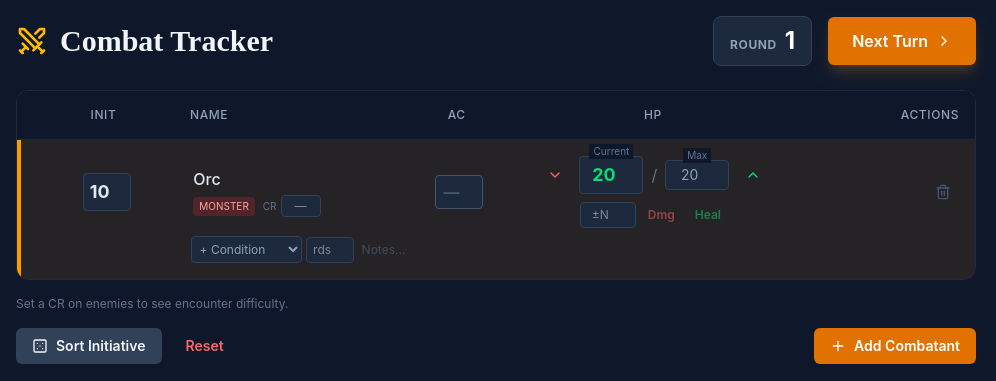
Test: conditions › adds a condition chip from the picker and removes it
Select "Poisoned" in the dropdown named "Add condition to Orc" at (246, 250), box [191,236,302,263]
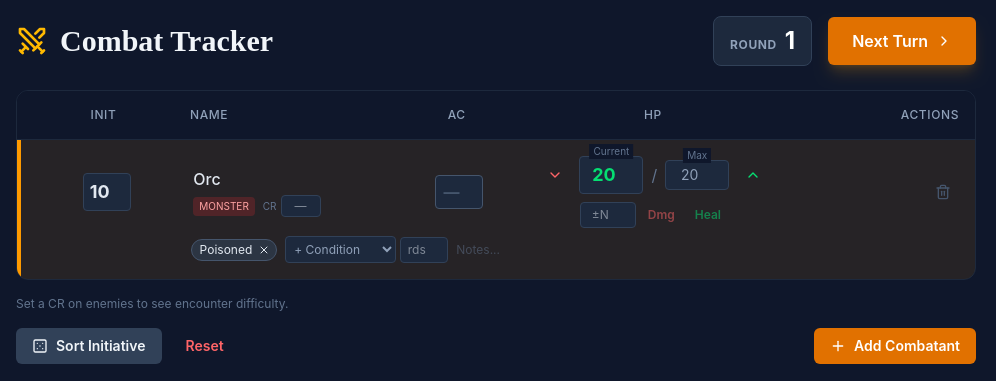
Result: the text "Poisoned" is shown at [200,242,252,258]
Click the button named "Remove Poisoned from Orc" at (264, 250), box [256,242,272,258]
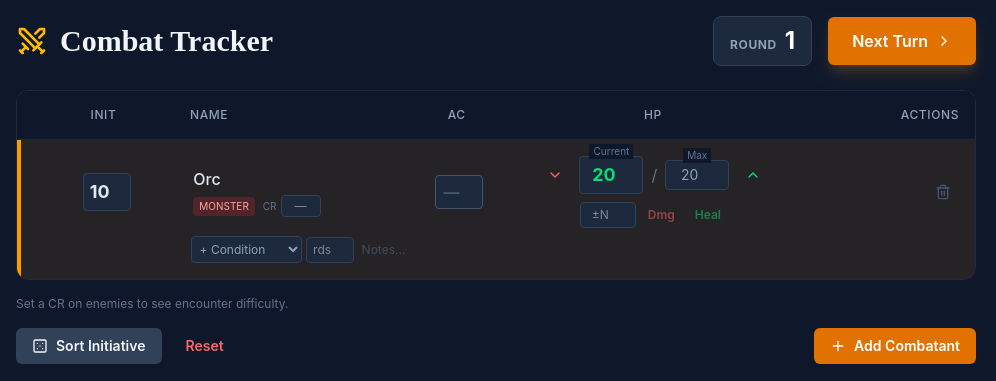
Result: the text "Poisoned" is gone
